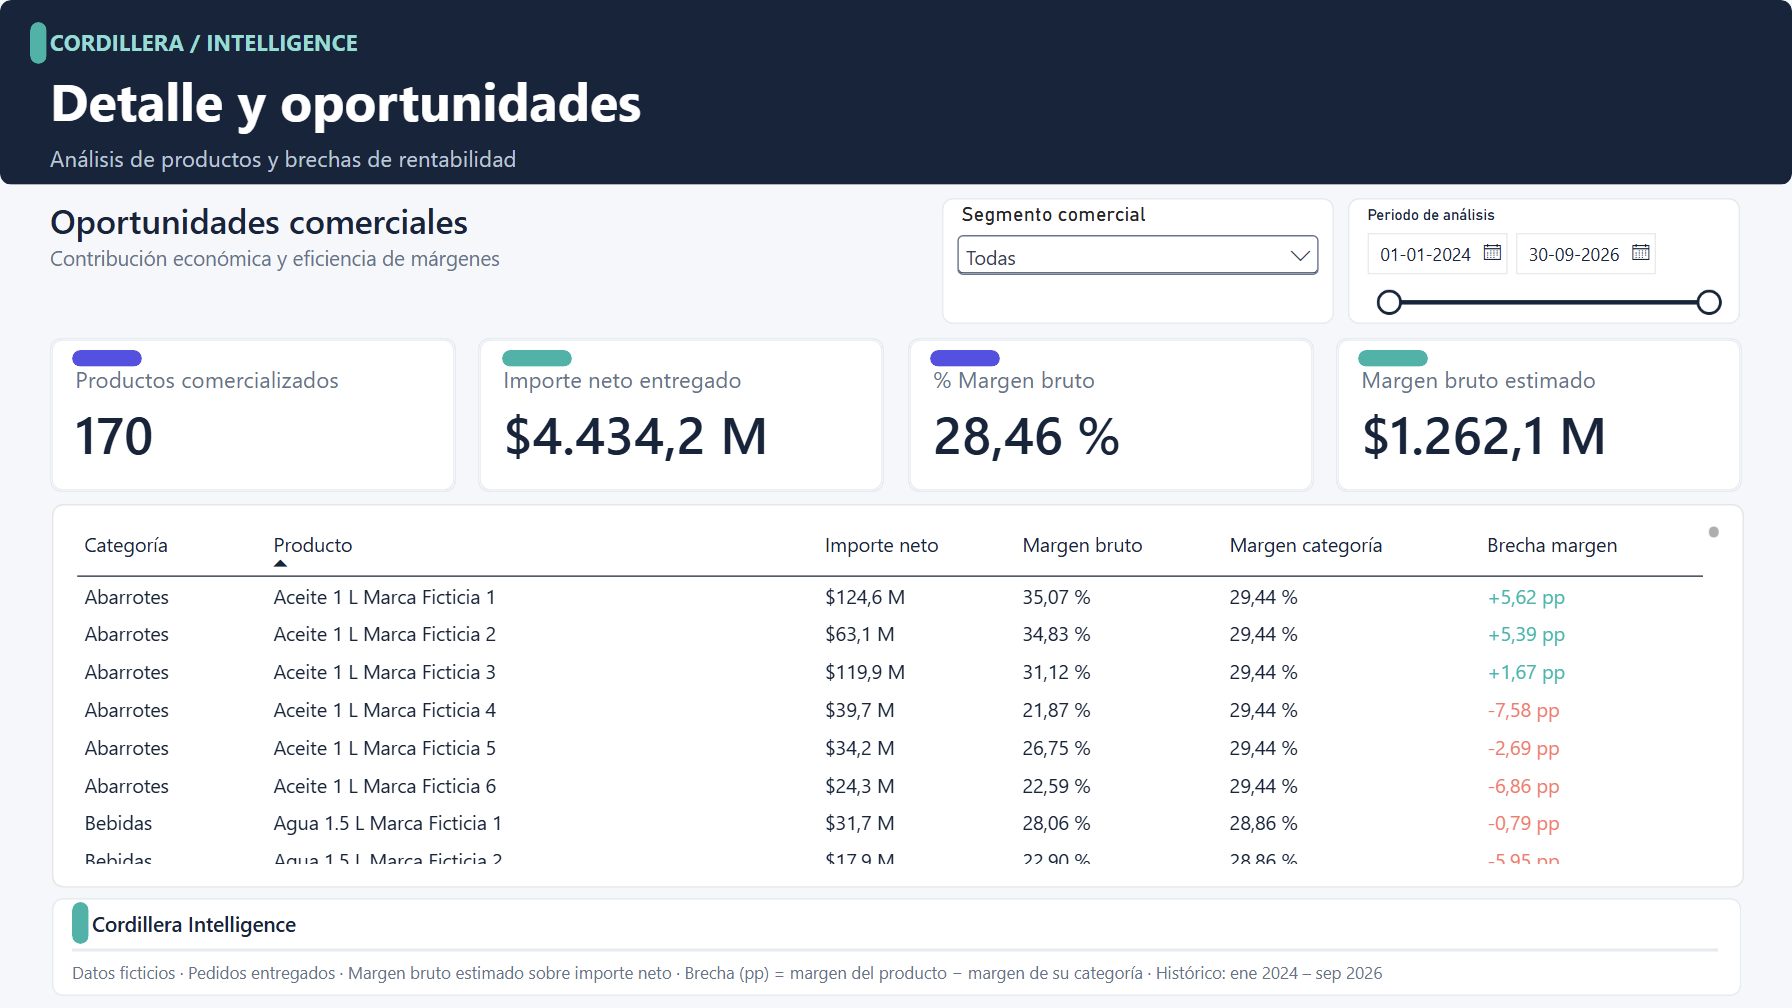

The dashboard page shown, as its layout file describes it:
{"tool":"powerbi","page":{"name":"04_Detalle y oportunidades","canvas":[1280,720],"ordinal":3},"visuals":[{"type":"shape","box":[0,0,1280,132],"z":0},{"type":"textbox","box":[36,18,600,28],"z":1000},{"type":"textbox","box":[36,46,720,50],"z":2000},{"type":"textbox","box":[36,101,700,26],"z":3000},{"type":"shape","box":[21,15,12,30],"z":4000},{"type":"slicer","fields":{"Values":["dim_cliente.segmento"]},"box":[673.3,141.7,280,90],"z":5000},{"type":"slicer","fields":{"Values":["dim_fecha.fecha"]},"box":[963.3,141.7,280,90],"z":6000},{"type":"textbox","box":[36,142,350,54],"z":7000},{"type":"textbox","box":[36,174,350,30],"z":8000},{"type":"cardVisual","fields":{"Data":["dim_producto.Productos comercializados"]},"box":[36,242,290,110],"z":9000},{"type":"cardVisual","fields":{"Data":["fact_detalle_pedidos.Importe neto entregado"]},"box":[342,242,290,110],"z":10000},{"type":"cardVisual","fields":{"Data":["select","fact_detalle_pedidos.% Margen bruto"]},"box":[648,242,290,110],"z":11000},{"type":"cardVisual","fields":{"Data":["fact_detalle_pedidos.Margen bruto estimado"]},"box":[954,242,290,110],"z":12000},{"type":"shape","box":[52,250,50,12],"z":13000},{"type":"shape","box":[358,250,50,12],"z":14000},{"type":"shape","box":[664,250,50,12],"z":15000},{"type":"shape","box":[970,250,50,12],"z":16000},{"type":"shape","box":[36.7,642,1206.7,70],"z":17000},{"type":"textbox","box":[66,650,500,25],"z":18000},{"type":"shape","box":[52,668,1176,20],"z":19000},{"type":"textbox","box":[52,684,1176,20],"z":20000},{"type":"shape","box":[51.7,645,12,30],"z":21000},{"type":"tableEx","fields":{"Values":["dim_producto.nombre_categoria","dim_producto.nombre_producto","fact_detalle_pedidos.Importe neto entregado","fact_detalle_pedidos.% Margen bruto","dim_producto.% Margen categoría","dim_producto.Brecha margen pp"]},"box":[36.7,360,1208.3,274],"z":21001}]}

Visuals, with their boxes in screenshot pixels (x1, y1, x2, y2), scaled from the page's 1280x720 canvas onto the 1792x1008 screenshot:
shape: detection(0, 0, 1791, 185)
textbox: detection(50, 25, 890, 64)
textbox: detection(50, 64, 1058, 134)
textbox: detection(50, 141, 1030, 178)
shape: detection(29, 21, 46, 63)
slicer - dim_cliente.segmento: detection(943, 198, 1335, 324)
slicer - dim_fecha.fecha: detection(1349, 198, 1741, 324)
textbox: detection(50, 199, 540, 274)
textbox: detection(50, 244, 540, 286)
cardVisual - dim_producto.Productos comercializados: detection(50, 339, 456, 493)
cardVisual - fact_detalle_pedidos.Importe neto entregado: detection(479, 339, 885, 493)
cardVisual - select x fact_detalle_pedidos.% Margen bruto: detection(907, 339, 1313, 493)
cardVisual - fact_detalle_pedidos.Margen bruto estimado: detection(1336, 339, 1742, 493)
shape: detection(73, 350, 143, 367)
shape: detection(501, 350, 571, 367)
shape: detection(930, 350, 1000, 367)
shape: detection(1358, 350, 1428, 367)
shape: detection(51, 899, 1741, 997)
textbox: detection(92, 910, 792, 945)
shape: detection(73, 935, 1719, 963)
textbox: detection(73, 958, 1719, 986)
shape: detection(72, 903, 89, 945)
tableEx - dim_producto.nombre_categoria x dim_producto.nombre_producto: detection(51, 504, 1743, 888)
